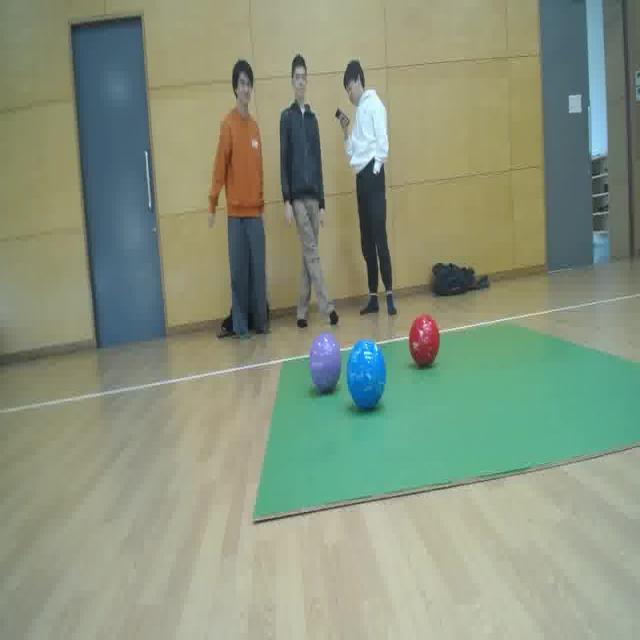blue_ball: (345, 334, 395, 411)
purple_ball: (306, 324, 342, 396)
red_ball: (406, 311, 442, 369)
